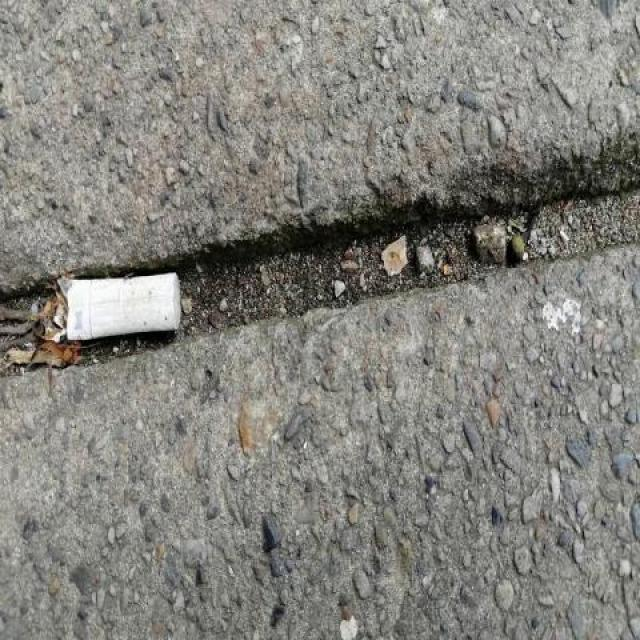non-organic waste: (54, 263, 187, 344)
